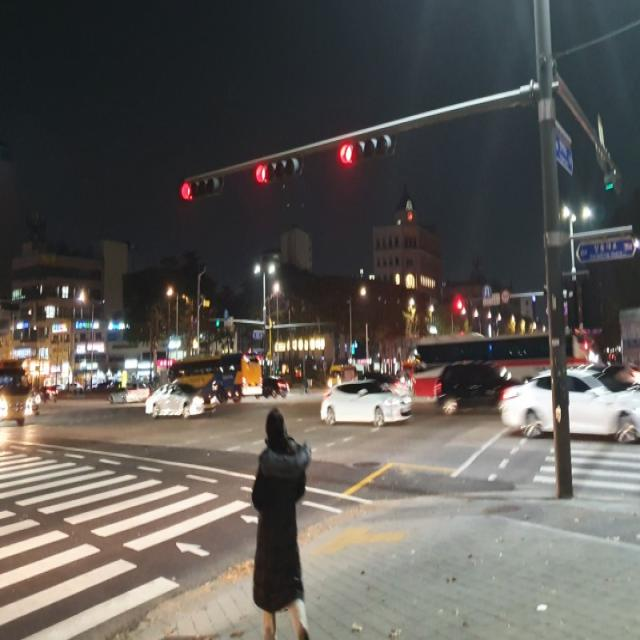Green Light: (215, 319, 220, 328)
Red Light: (253, 158, 272, 186), (178, 176, 195, 202), (338, 141, 355, 166), (456, 297, 463, 310)
